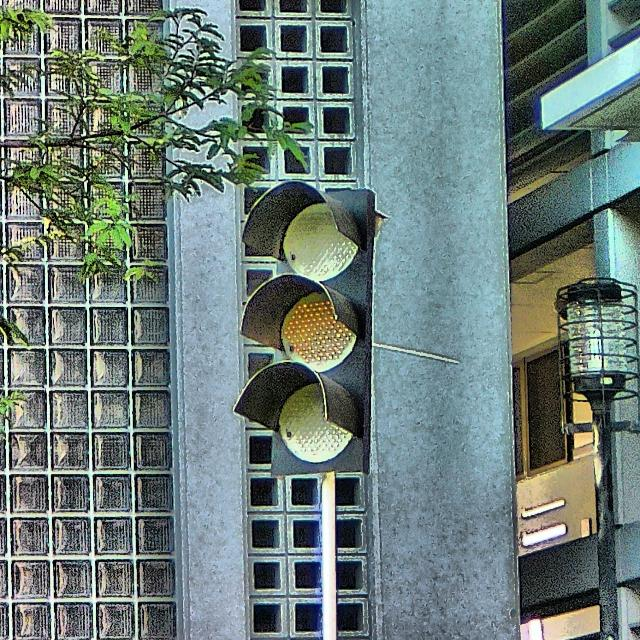yellow: (237, 183, 378, 478)
